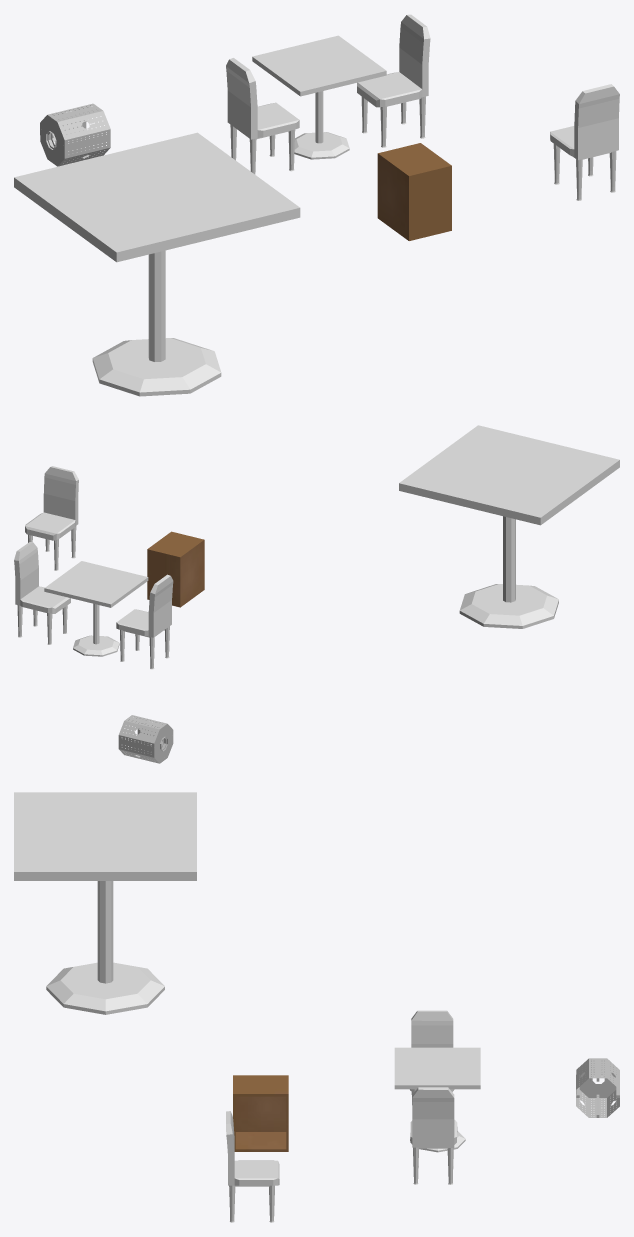
File: BüyükDelikliTambur.fbx
The picture shows the model from 3 angles, top to bottom: view 1: azimuth 30°, elevation 25°; view 2: azimuth 150°, elevation 25°; view 3: azimuth 270°, elevation 25°; orthographic projection. The views are drawn at different scales.
Parts seen in each view (by area): view 1: Cube.001, Cylinder.001, Cube.009, Cylinder.002, Cylinder.009, Cylinder.007, Cube.005, Cylinder.013, Cylinder.003; view 2: Cube.001, Cylinder.001, Cylinder.002, Cube.009, Cube.005, Cylinder.009, Cylinder.007, Cylinder.013, Cylinder.003; view 3: Cube.001, Cylinder.002, Cube.009, Cylinder.001, Cylinder.009, Cylinder.013, Cylinder.003, Cube.005, Cylinder.007.
Part boxes in pixels (x1,y1,x2,y2): Cube.001: [14, 132, 300, 262]; Cylinder.001: [252, 35, 386, 159]; Cube.009: [377, 143, 451, 240]; Cylinder.002: [92, 338, 221, 396]; Cylinder.009: [357, 14, 430, 147]; Cylinder.007: [226, 58, 299, 174]; Cube.005: [550, 84, 619, 159]; Cylinder.013: [40, 103, 110, 166]; Cylinder.003: [148, 250, 165, 361]; Cube.001: [399, 425, 619, 525]; Cylinder.001: [44, 561, 148, 656]; Cylinder.002: [459, 584, 558, 628]; Cube.009: [147, 531, 204, 607]; Cube.005: [25, 466, 78, 540]; Cylinder.009: [14, 542, 70, 644]; Cylinder.007: [116, 574, 173, 669]; Cylinder.013: [118, 715, 173, 763]; Cylinder.003: [503, 516, 515, 602]; Cube.001: [14, 792, 196, 880]; Cylinder.002: [46, 962, 164, 1014]; Cube.009: [233, 1075, 288, 1151]; Cylinder.001: [394, 1047, 480, 1152]; Cylinder.009: [410, 1087, 457, 1184]; Cylinder.013: [576, 1058, 619, 1117]; Cylinder.003: [97, 881, 113, 983]; Cube.005: [226, 1111, 279, 1185]; Cylinder.007: [410, 1010, 454, 1104].
Size of the model in its own units: 1763 by 578 by 1661.
